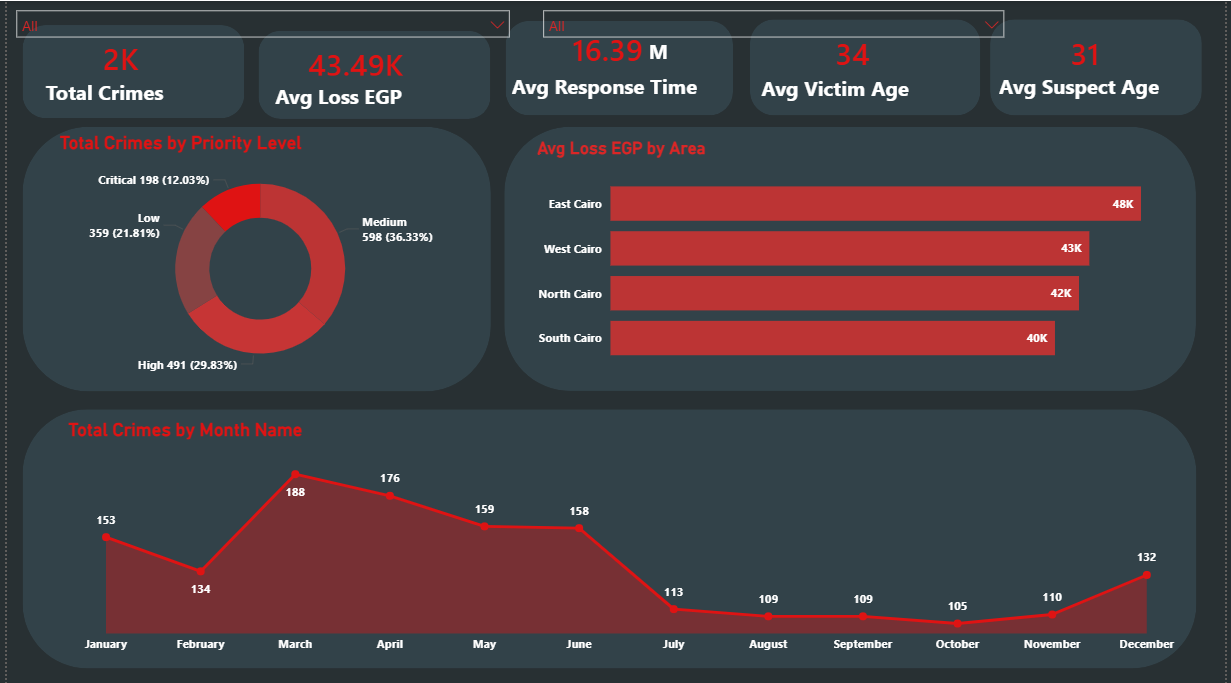

What the dashboard file says about the page in this screenshot:
{"tool":"powerbi","page":{"name":"Page 1","canvas":[1280,720],"ordinal":0},"visuals":[{"type":"shape","box":[780.8,19.5,242,101],"z":0,"group":"g4"},{"type":"shape","box":[1033.6,19.5,222.6,100.9],"z":0,"group":"g5"},{"type":"shape","box":[523.5,21.5,238.9,99.5],"z":0,"group":"g3"},{"type":"group","id":"g1","title":"total crimes card","box":[16.5,25.4,233.3,97.2],"z":0},{"type":"shape","box":[16.5,25.5,233,98],"z":0,"group":"g1"},{"type":"shape","box":[264.4,31.4,243.8,92.7],"z":0,"group":"g2"},{"type":"cardVisual","fields":{"Data":["calculated_measures.avg_response_time"]},"box":[547.5,15,167.5,67.3],"z":1000,"group":"g3"},{"type":"cardVisual","fields":{"Data":["calculated_measures.avg_victim_age"]},"box":[804.2,19.4,168.6,68.8],"z":1000,"group":"g4"},{"type":"cardVisual","fields":{"Data":["calculated_measures.avg_suscpect_age"]},"box":[1055.1,19.4,155.1,68.7],"z":1000,"group":"g5"},{"type":"cardVisual","fields":{"Data":["calculated_measures.total_crimes"]},"box":[39.1,25.4,162.3,66.7],"z":1000,"group":"g1"},{"type":"cardVisual","fields":{"Data":["calculated_measures.avg_loss_EGP"]},"box":[282.4,32.2,169.9,63.2],"z":1000,"group":"g2"},{"type":"shape","box":[16.2,429.2,1233.5,272.3],"z":1000},{"type":"group","id":"g2","title":"loss_EGP_card","box":[258.8,31.4,249.8,94.2],"z":2000},{"type":"textbox","box":[525.1,70.3,213.9,43.4],"z":2000,"group":"g3"},{"type":"textbox","box":[1038.2,70.5,206.4,47.9],"z":2000,"group":"g5"},{"type":"textbox","box":[780.8,71.5,179.1,49],"z":2000,"group":"g4"},{"type":"textbox","box":[16.5,76,172.4,47.5],"z":2000,"group":"g1"},{"type":"textbox","box":[258.8,80,180.5,45],"z":2000,"group":"g2"},{"type":"textbox","title":"minute","box":[668.7,32.9,55.3,43.4],"z":2500,"group":"g3"},{"type":"group","id":"g3","title":"avg_response_time_card","box":[523.5,15,239.3,104.7],"z":3000},{"type":"group","id":"g4","title":"Avg_victime_age_card","box":[780.8,19.4,240.8,100.2],"z":4000},{"type":"group","id":"g5","title":"avg_suspect_age_card","box":[1033.6,19.4,221.4,100.2],"z":5000},{"type":"lineChart","title":"Total Crimes by Month Name","fields":{"Y":["calculated_measures.total_crimes"],"Category":["DWH Dim_Date.Month_Name"]},"box":[59.5,440,1183,254.3],"z":6000},{"type":"group","id":"g6","title":"Total crime by Priority","box":[16.5,131.6,492.1,278.2],"z":7000},{"type":"shape","box":[16.5,131.6,492.1,278.2],"z":8000,"group":"g6"},{"type":"group","id":"g7","title":"Avg Loss EGP By Area","box":[523,131.6,726.8,277.7],"z":8000},{"type":"donutChart","title":"Total Crimes by Priority Level","fields":{"Category":["DWH dim_junk_detail.Priority_Level"],"Y":["calculated_measures.total_crimes"]},"box":[51.3,137.3,431.3,265.3],"z":8500,"group":"g6"},{"type":"slicer","fields":{"Values":["DWH Dim_Date.Year"]},"box":[0,0,538.5,55.3],"z":9000},{"type":"shape","box":[523,131.6,726.8,277.7],"z":9000,"group":"g7"},{"type":"clusteredBarChart","title":"ِAvg Loss EGP by Area","fields":{"Category":["DWH dim_location.Area","DWH dim_location.District","DWH dim_location.Location_Type","DWH dim_location.Neighborhood"],"Y":["calculated_measures.avg_loss_EGP"]},"box":[553.3,142.3,689.4,255.2],"z":9500,"group":"g7"},{"type":"slicer","fields":{"Values":["DWH Dim_Time.Time_Block"]},"box":[553.4,0,504.1,55.3],"z":10000}]}

Visuals, with their boxes in screenshot pixels (x1, y1, x2, y2), scaled from the page's 1280x720 canvas onto the 1231x683 screenshot:
shape: <box>751,18,984,114</box>
shape: <box>994,18,1208,114</box>
shape: <box>503,20,733,115</box>
"total crimes card" group: <box>16,24,240,116</box>
shape: <box>16,24,240,117</box>
shape: <box>254,30,489,118</box>
cardVisual - calculated_measures.avg_response_time: <box>527,14,688,78</box>
cardVisual - calculated_measures.avg_victim_age: <box>773,18,936,84</box>
cardVisual - calculated_measures.avg_suscpect_age: <box>1015,18,1164,84</box>
cardVisual - calculated_measures.total_crimes: <box>38,24,194,87</box>
cardVisual - calculated_measures.avg_loss_EGP: <box>272,31,435,90</box>
shape: <box>16,407,1202,665</box>
"loss_EGP_card" group: <box>249,30,489,119</box>
textbox: <box>505,67,711,108</box>
textbox: <box>998,67,1197,112</box>
textbox: <box>751,68,923,114</box>
textbox: <box>16,72,182,117</box>
textbox: <box>249,76,422,119</box>
"minute" textbox: <box>643,31,696,72</box>
"avg_response_time_card" group: <box>503,14,734,114</box>
"Avg_victime_age_card" group: <box>751,18,982,113</box>
"avg_suspect_age_card" group: <box>994,18,1207,113</box>
"Total Crimes by Month Name" lineChart: <box>57,417,1195,659</box>
"Total crime by Priority" group: <box>16,125,489,389</box>
shape: <box>16,125,489,389</box>
"Avg Loss EGP By Area" group: <box>503,125,1202,388</box>
"Total Crimes by Priority Level" donutChart: <box>49,130,464,382</box>
slicer - DWH Dim_Date.Year: <box>0,0,518,52</box>
shape: <box>503,125,1202,388</box>
"ِAvg Loss EGP by Area" clusteredBarChart: <box>532,135,1195,377</box>
slicer - DWH Dim_Time.Time_Block: <box>532,0,1017,52</box>
